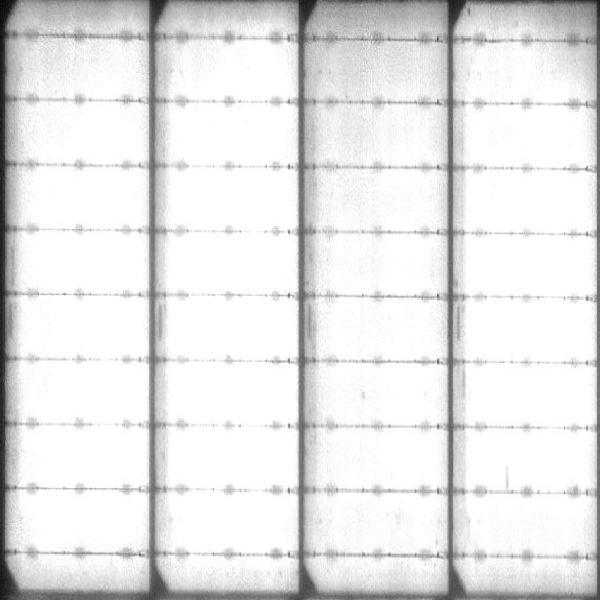hot_spot: (166, 365, 289, 420), (171, 497, 296, 548), (471, 240, 592, 291), (475, 303, 588, 357), (166, 434, 292, 482), (170, 307, 294, 354), (474, 109, 586, 161), (180, 174, 291, 225), (176, 109, 290, 158), (31, 496, 142, 546), (322, 371, 438, 418), (30, 235, 139, 285), (181, 240, 291, 289), (26, 175, 140, 222), (32, 303, 140, 352), (31, 434, 140, 481), (473, 178, 580, 225), (477, 370, 586, 416), (337, 307, 445, 353), (473, 437, 594, 478), (196, 46, 295, 94), (480, 501, 576, 548), (30, 370, 137, 412), (332, 439, 436, 482), (331, 503, 432, 547), (52, 111, 129, 153)
